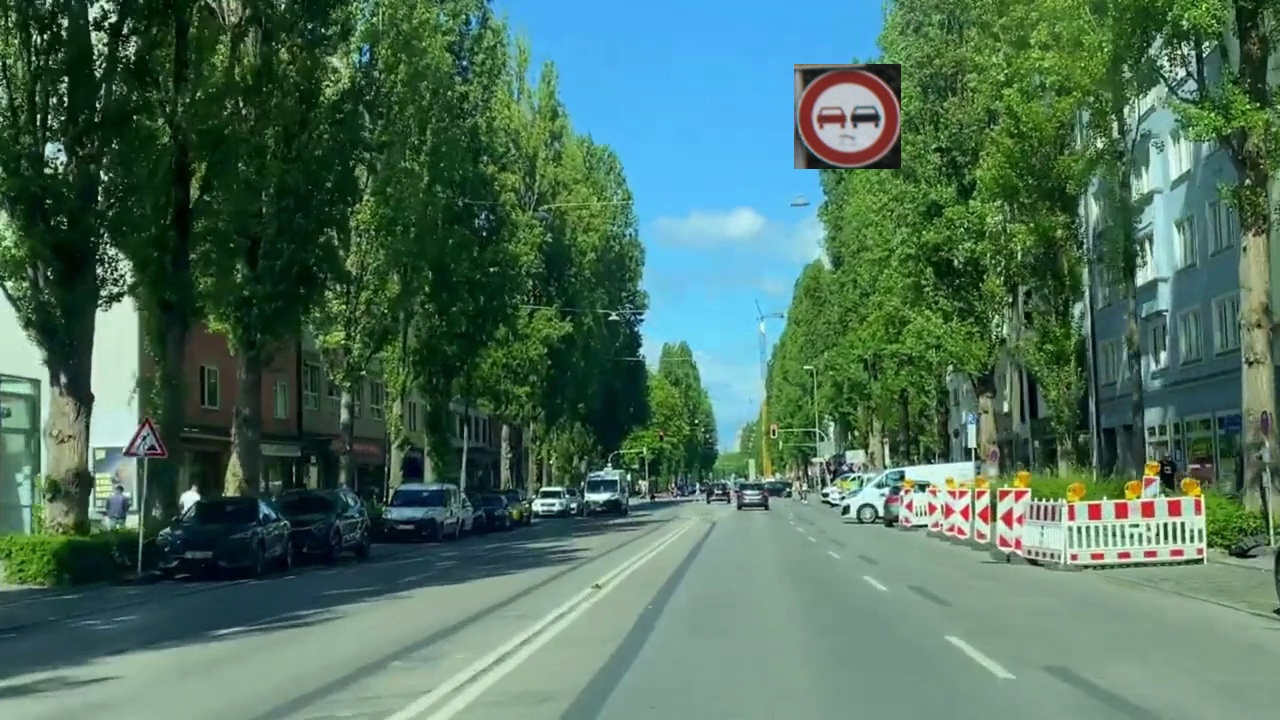No passing: (794, 64, 901, 169)
